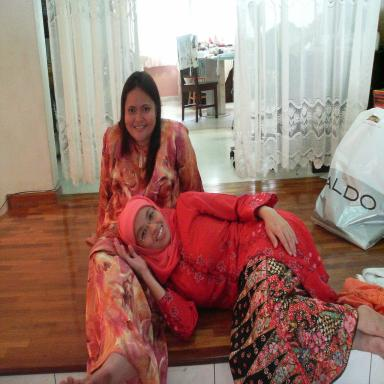plasticbag: (308, 107, 383, 250)
